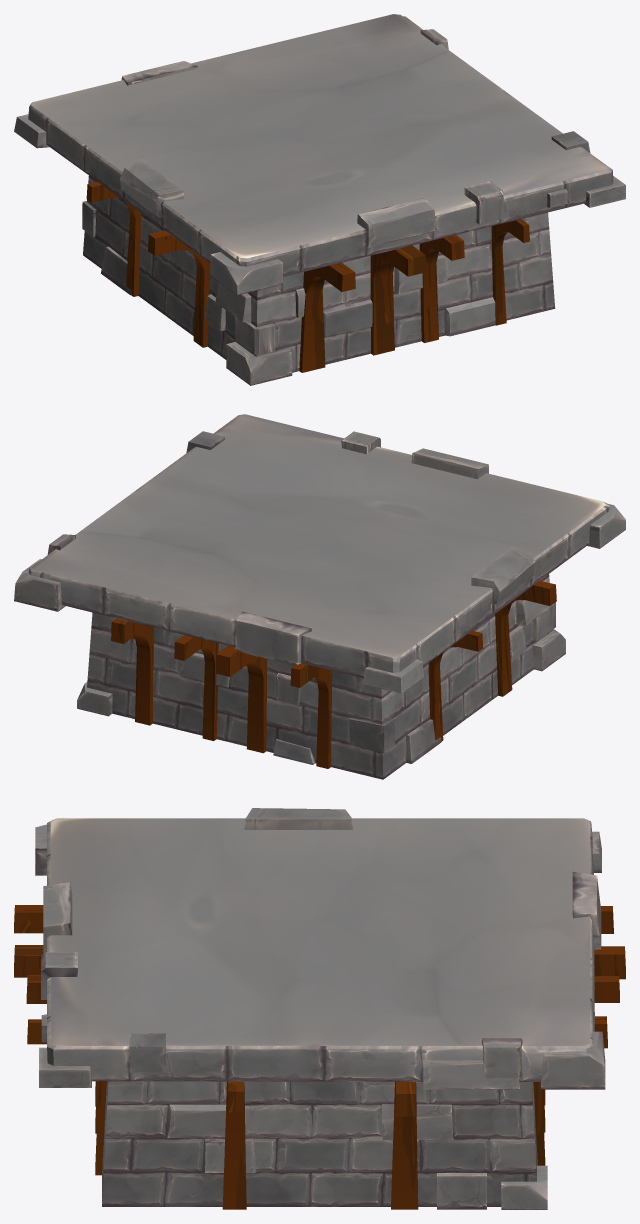
File: SM_BLD_base_v04_01.fbx
3 views of the same model, one above another, from view 1: azimuth 30°, elevation 25°; view 2: azimuth 150°, elevation 25°; view 3: azimuth 270°, elevation 25° (orthographic). The views are drawn at different scales.
Parts seen in each view (by area): view 1: SM_BLD_base_v04_01; view 2: SM_BLD_base_v04_01; view 3: SM_BLD_base_v04_01.
Part boxes in pixels (<box>): SM_BLD_base_v04_01: <box>14,14,625,385</box>; SM_BLD_base_v04_01: <box>14,414,625,779</box>; SM_BLD_base_v04_01: <box>14,808,625,1209</box>.
Size of the model in its own units: 653 by 235 by 666.
